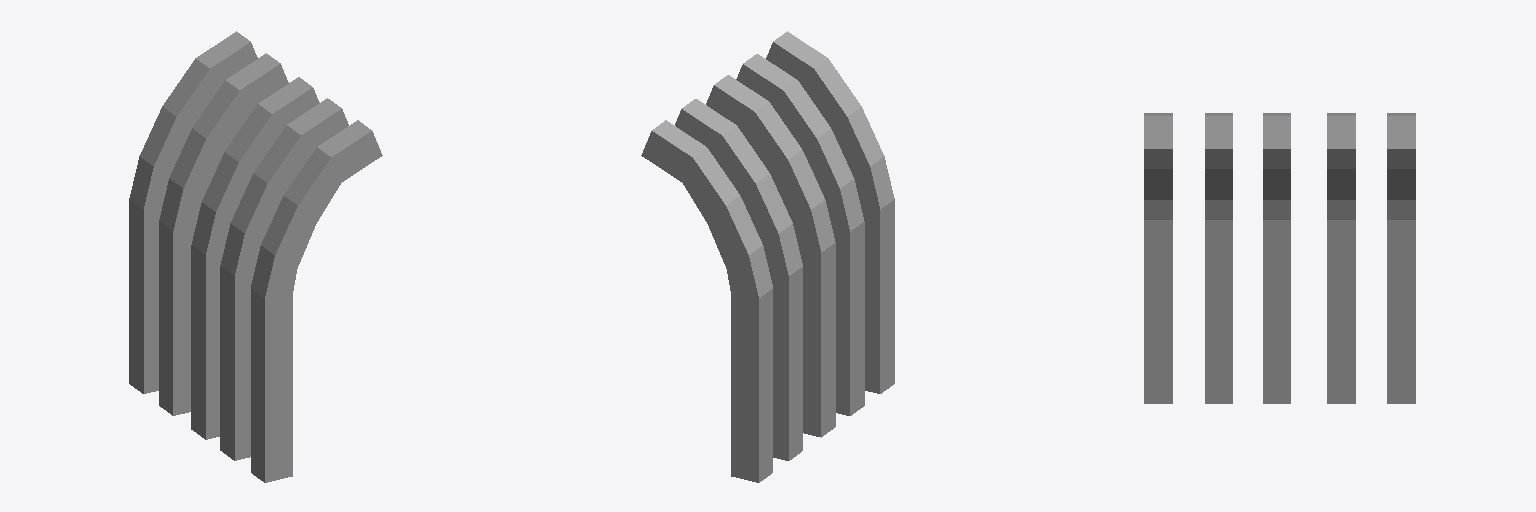
The picture shows the model from 3 angles: view 1: azimuth 30°, elevation 25°; view 2: azimuth 150°, elevation 25°; view 3: azimuth 270°, elevation 25°; orthographic projection.
Parts seen in each view (by area): view 1: 立方体.004; view 2: 立方体.004; view 3: 立方体.004.
Part boxes in pixels (left/top/right/bottom): 立方体.004: left=129, top=31, right=382, bottom=482; 立方体.004: left=641, top=31, right=894, bottom=482; 立方体.004: left=1144, top=113, right=1415, bottom=403.
Size of the model in its own units: 4.85 by 12.84 by 9.67.
1 materials, 1 textured.